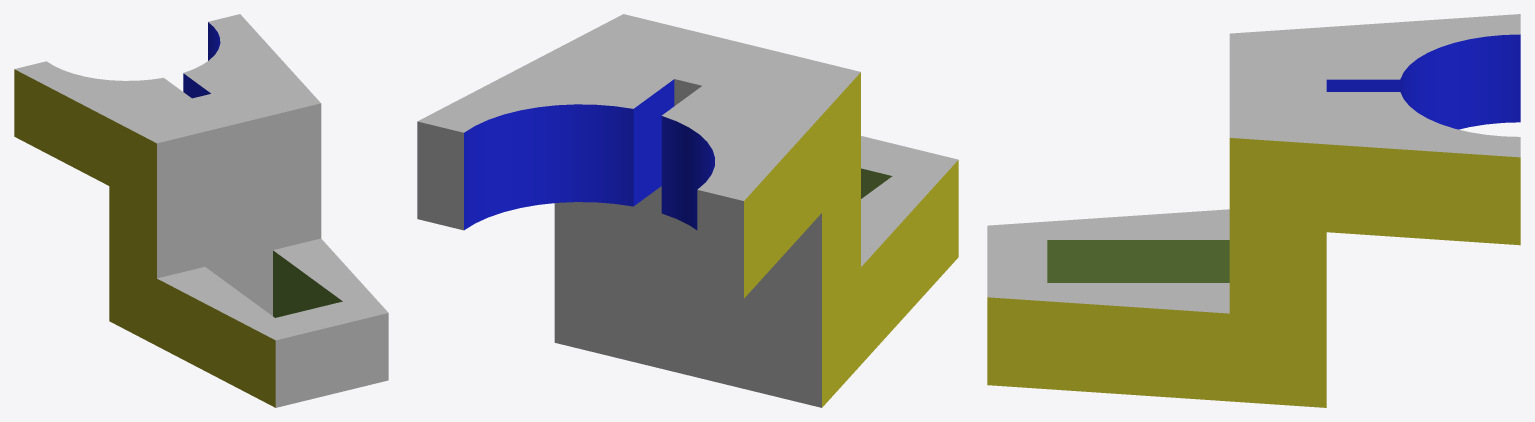
3 renders of one model, left to right at view 1: azimuth 30°, elevation 25°; view 2: azimuth 150°, elevation 25°; view 3: azimuth 270°, elevation 25°, orthographic. The views are drawn at different scales.
Visible parts, largest first — view 1: Solid1; view 2: Solid1; view 3: Solid1.
Boxes of the visible parts, x1,y1,x2,y2 form: Solid1: (14, 14, 388, 407); Solid1: (417, 14, 958, 407); Solid1: (987, 14, 1520, 407).
Size of the model in its own units: 0.07 by 0.06 by 0.11.
